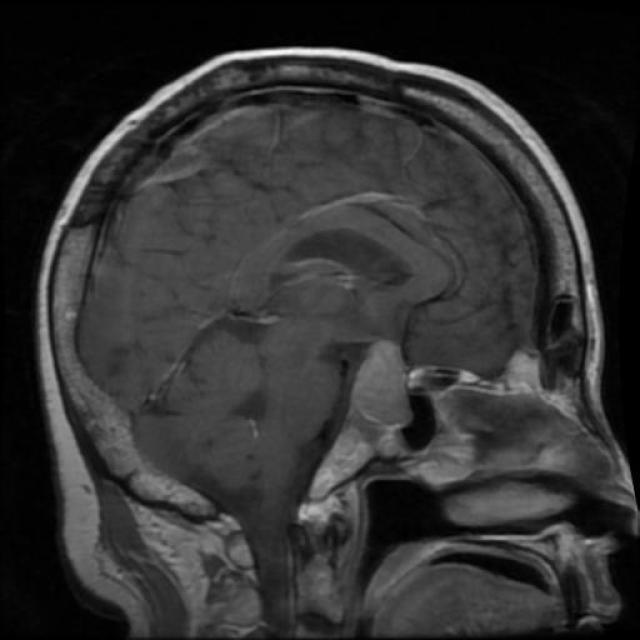pituitary: (354, 334, 410, 432)
